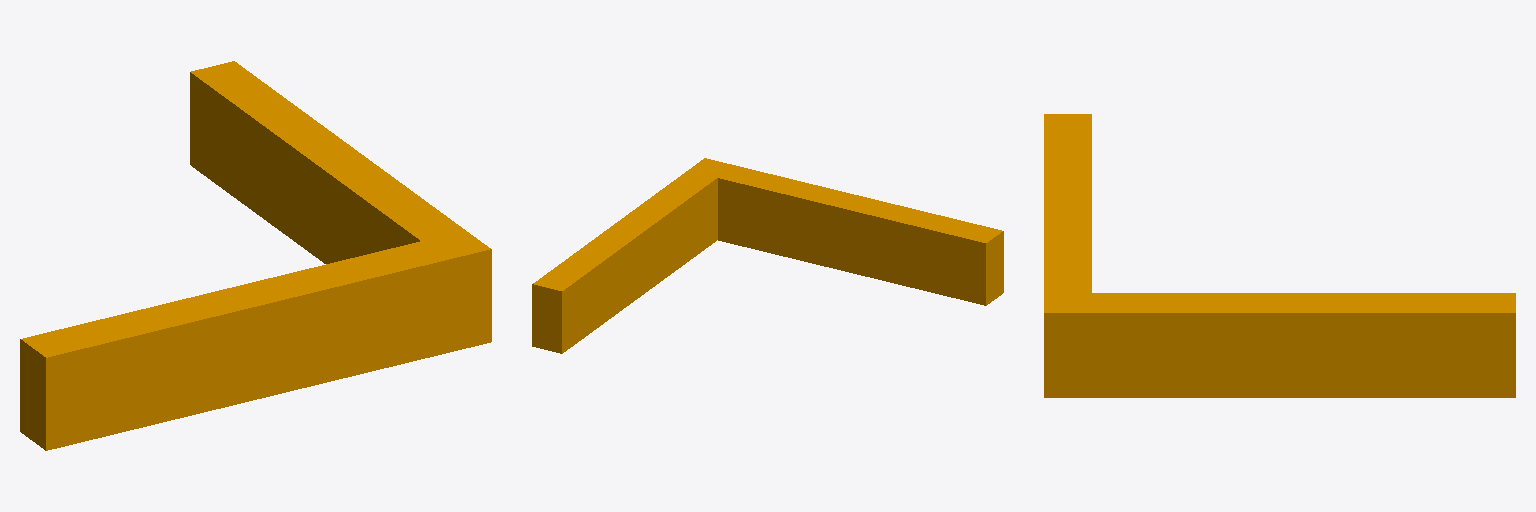
URDF robot description (hook):
<?xml version="1.0"?>
<robot name="hook">
    <link name="hook">
        <visual>
            <geometry>
                <mesh filename="meshes/hook.obj"/>
            </geometry>
        </visual>
        <collision>
            <geometry>
                <mesh filename="meshes/hook.obj"/>
            </geometry>
            <!-- <sdf resolution="256"/> -->
        </collision>
    </link>
</robot>

--- Facts derived from the render (not from the file) ---
3 views of the same robot in one strip: view 1: azimuth 30°, elevation 25°; view 2: azimuth 150°, elevation 25°; view 3: azimuth 270°, elevation 25° (orthographic).
Robot: hook — 1 links, 0 joints (none); root link hook; default pose: every joint at zero.
Links seen in each view (by area): view 1: hook; view 2: hook; view 3: hook.
Link boxes in pixels (x1=…): hook: x1=20, y1=61, x2=491, y2=450; hook: x1=532, y1=158, x2=1003, y2=353; hook: x1=1044, y1=114, x2=1515, y2=397.
Size in the robot's own frame: 0.2 by 0.2 by 0.04 metres.
1 mesh visuals loaded from 1 distinct referenced files (1 OBJ).